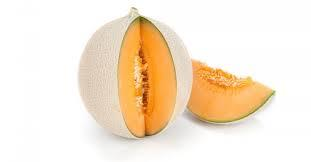Melon Ripe: (78, 8, 193, 140), (190, 56, 276, 124)
